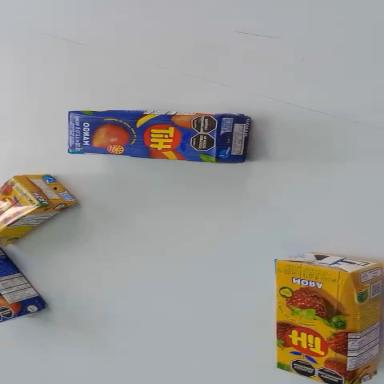HIT-MANGO: (69, 107, 251, 164), (1, 248, 46, 323)
HIT-MORA: (274, 252, 384, 384), (0, 155, 79, 249)
cara_F: (274, 260, 350, 384), (68, 112, 221, 164), (0, 172, 42, 231), (1, 290, 19, 321)
